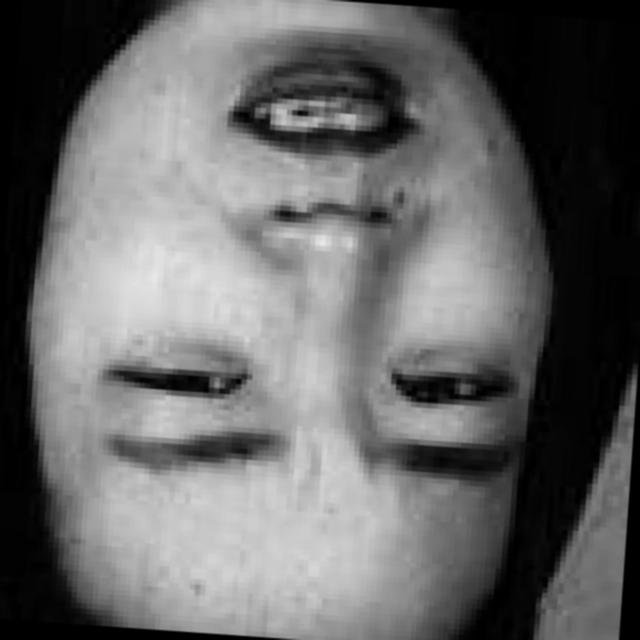disgust: (58, 0, 563, 609)
